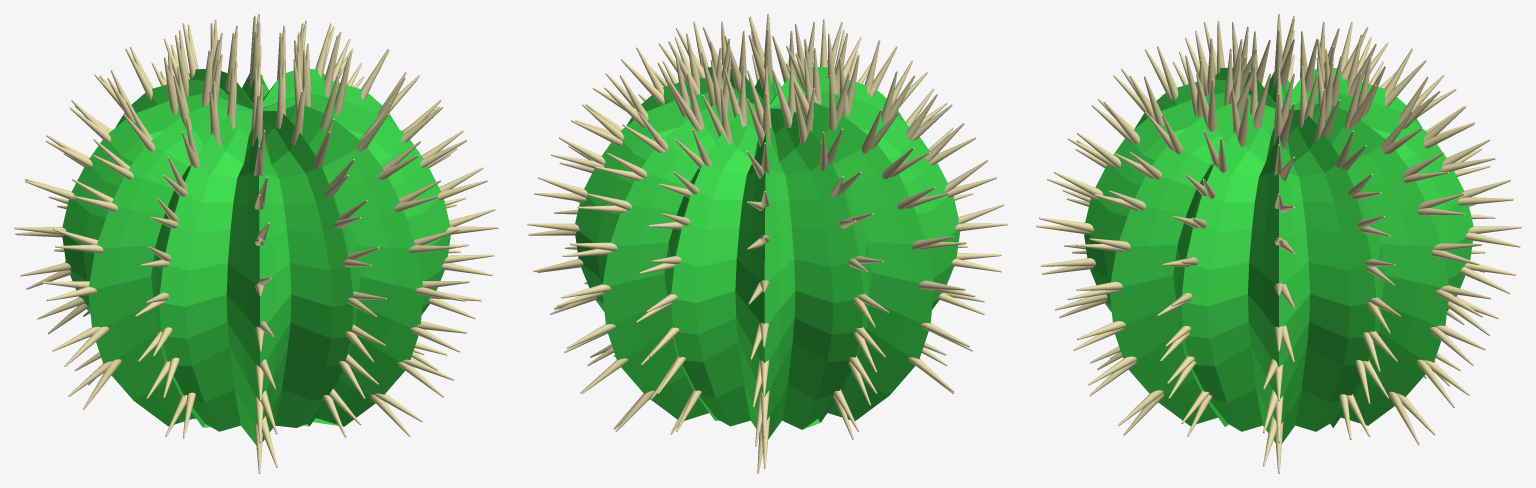
File: Tallcactiround.fbx
3 renders of one model, left to right at view 1: azimuth 30°, elevation 25°; view 2: azimuth 150°, elevation 25°; view 3: azimuth 270°, elevation 25°, orthographic.
Visible parts, largest first — view 1: CactusBody.003, CactusBody.003|spike|Dupli|88, CactusBody.003|spike|Dupli|105, CactusBody.003|spike|Dupli|73, CactusBody.003|spike|Dupli|132, CactusBody.003|spike|Dupli|102, CactusBody.003|spike|Dupli|83, CactusBody.003|spike|Dupli|93, CactusBody.003|spike|Dupli|108, CactusBody.003|spike|Dupli|68, CactusBody.003|spike|Dupli|5, CactusBody.003|spike|Dupli|33 (+9 smaller); view 2: CactusBody.003, CactusBody.003|spike|Dupli|48, CactusBody.003|spike|Dupli|23, CactusBody.003|spike|Dupli|57, CactusBody.003|spike|Dupli|24, CactusBody.003|spike|Dupli|87, CactusBody.003|spike|Dupli|135, CactusBody.003|spike|Dupli|78, CactusBody.003|spike|Dupli|49, CactusBody.003|spike|Dupli|21, CactusBody.003|spike|Dupli|139, CactusBody.003|spike|Dupli|38 (+23 smaller); view 3: CactusBody.003, CactusBody.003|spike|Dupli|58, CactusBody.003|spike|Dupli|63, CactusBody.003|spike|Dupli|130, CactusBody.003|spike|Dupli|28, CactusBody.003|spike|Dupli|100, CactusBody.003|spike|Dupli|106, CactusBody.003|spike|Dupli|1, CactusBody.003|spike|Dupli|9, CactusBody.003|spike|Dupli|72, CactusBody.003|spike|Dupli|57, CactusBody.003|spike|Dupli|141 (+33 smaller).
Boxes of the visible parts, x1=… form: CactusBody.003: x1=62, y1=69, x2=450, y2=444; CactusBody.003|spike|Dupli|88: x1=68, y1=359, x2=121, y2=410; CactusBody.003|spike|Dupli|105: x1=52, y1=326, x2=109, y2=366; CactusBody.003|spike|Dupli|73: x1=397, y1=358, x2=453, y2=397; CactusBody.003|spike|Dupli|132: x1=370, y1=393, x2=422, y2=436; CactusBody.003|spike|Dupli|102: x1=410, y1=321, x2=466, y2=352; CactusBody.003|spike|Dupli|83: x1=41, y1=281, x2=96, y2=301; CactusBody.003|spike|Dupli|93: x1=441, y1=254, x2=494, y2=275; CactusBody.003|spike|Dupli|108: x1=437, y1=167, x2=487, y2=200; CactusBody.003|spike|Dupli|68: x1=415, y1=281, x2=469, y2=301; CactusBody.003|spike|Dupli|5: x1=446, y1=209, x2=498, y2=234; CactusBody.003|spike|Dupli|33: x1=37, y1=297, x2=87, y2=334; CactusBody.003: x1=575, y1=67, x2=960, y2=438; CactusBody.003|spike|Dupli|48: x1=621, y1=47, x2=664, y2=105; CactusBody.003|spike|Dupli|23: x1=772, y1=65, x2=796, y2=127; CactusBody.003|spike|Dupli|57: x1=669, y1=73, x2=704, y2=131; CactusBody.003|spike|Dupli|24: x1=724, y1=65, x2=747, y2=127; CactusBody.003|spike|Dupli|87: x1=828, y1=73, x2=849, y2=130; CactusBody.003|spike|Dupli|135: x1=571, y1=104, x2=623, y2=145; CactusBody.003|spike|Dupli|78: x1=864, y1=40, x2=897, y2=97; CactusBody.003|spike|Dupli|49: x1=668, y1=33, x2=700, y2=94; CactusBody.003|spike|Dupli|21: x1=604, y1=75, x2=648, y2=127; CactusBody.003|spike|Dupli|139: x1=906, y1=94, x2=952, y2=140; CactusBody.003|spike|Dupli|38: x1=702, y1=87, x2=732, y2=144; CactusBody.003: x1=1084, y1=67, x2=1473, y2=443; CactusBody.003|spike|Dupli|58: x1=1416, y1=359, x2=1469, y2=407; CactusBody.003|spike|Dupli|63: x1=1384, y1=48, x2=1426, y2=106; CactusBody.003|spike|Dupli|130: x1=1388, y1=391, x2=1435, y2=445; CactusBody.003|spike|Dupli|28: x1=1249, y1=66, x2=1270, y2=129; CactusBody.003|spike|Dupli|100: x1=1429, y1=325, x2=1485, y2=365; CactusBody.003|spike|Dupli|106: x1=1458, y1=179, x2=1513, y2=205; CactusBody.003|spike|Dupli|1: x1=1466, y1=226, x2=1521, y2=247; CactusBody.003|spike|Dupli|9: x1=1441, y1=139, x2=1495, y2=172; CactusBody.003|spike|Dupli|72: x1=1196, y1=73, x2=1216, y2=131; CactusBody.003|spike|Dupli|57: x1=1344, y1=73, x2=1376, y2=129; CactusBody.003|spike|Dupli|141: x1=1423, y1=106, x2=1474, y2=148.
Size of the model in its own units: 194 by 160 by 195.
